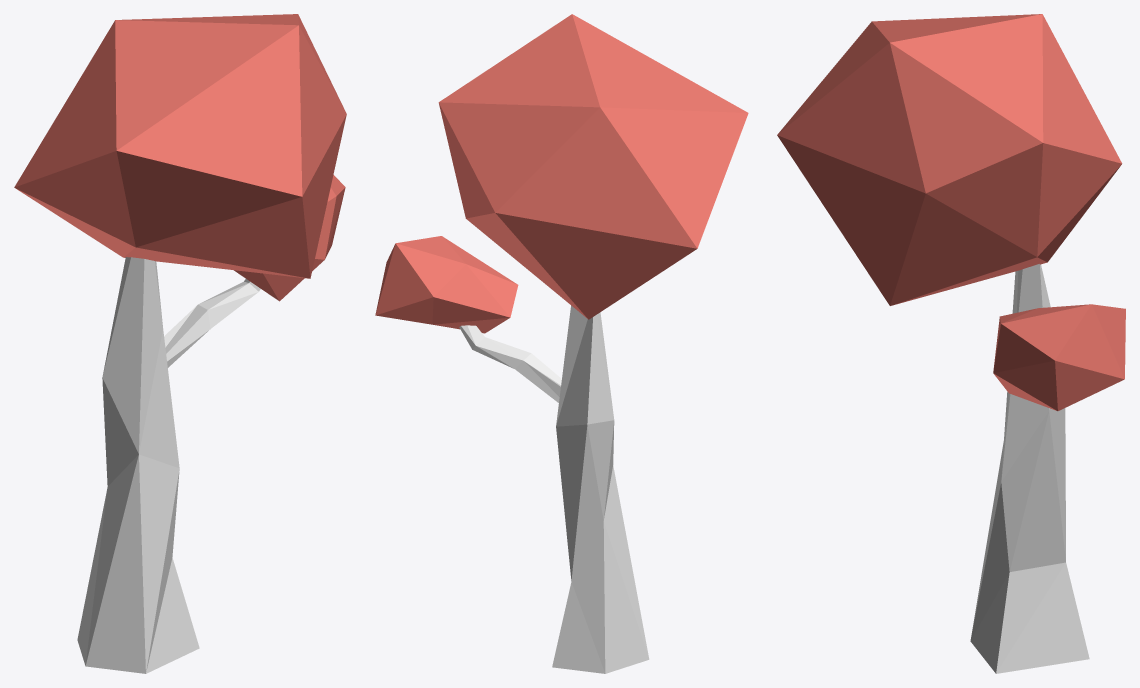
File: Tree_1.glb
The picture shows the model from 3 angles, left to right: view 1: azimuth 30°, elevation 25°; view 2: azimuth 150°, elevation 25°; view 3: azimuth 270°, elevation 25°; orthographic projection. The views are drawn at different scales.
Parts seen in each view (by area): view 1: Sphere.2, Tree_1, Sphere; view 2: Sphere.2, Tree_1, Sphere; view 3: Sphere.2, Tree_1, Sphere.
Boxes of the visible parts, x1,y1,x2,y2 form: Sphere.2: (14, 14, 346, 278); Tree_1: (77, 257, 260, 673); Sphere: (234, 175, 345, 301); Sphere.2: (438, 14, 748, 319); Tree_1: (459, 305, 649, 673); Sphere: (375, 236, 518, 333); Sphere.2: (777, 14, 1122, 305); Tree_1: (970, 264, 1089, 673); Sphere: (993, 304, 1125, 411).
Size of the model in its own units: 372 by 676 by 327.
